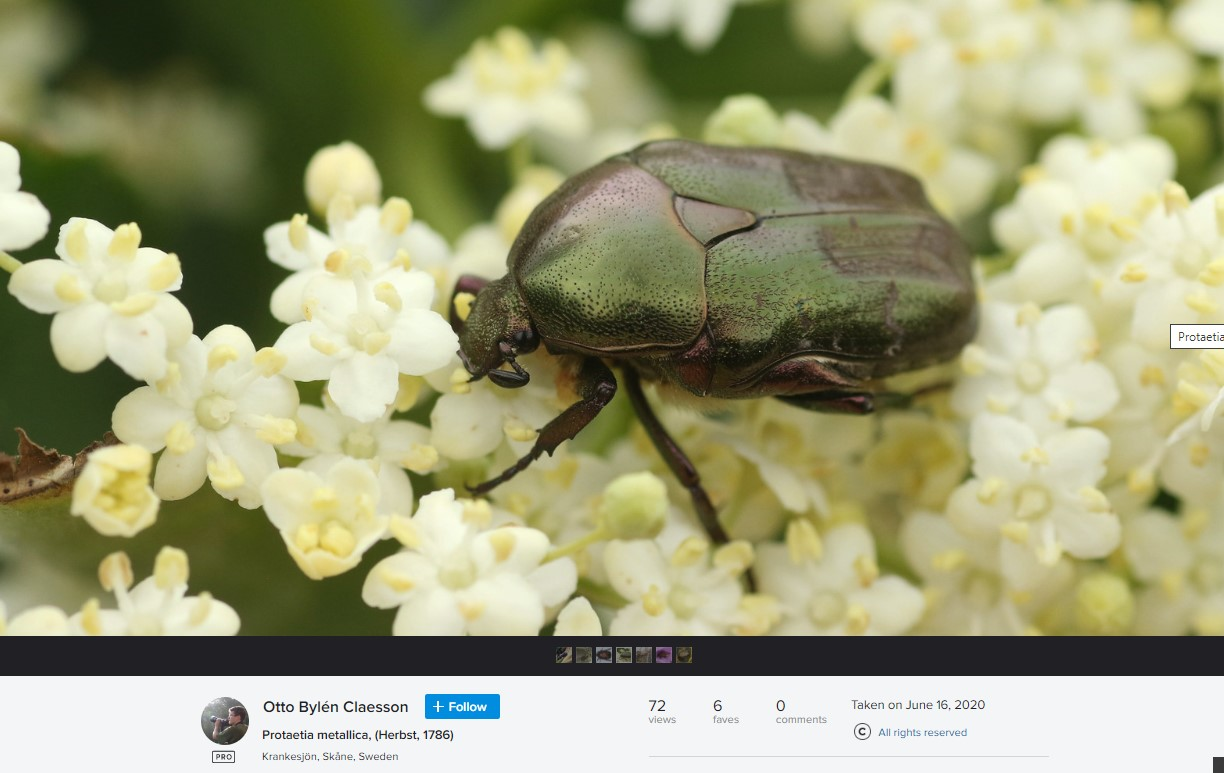Protaetia_metallica: (444, 131, 983, 583)
